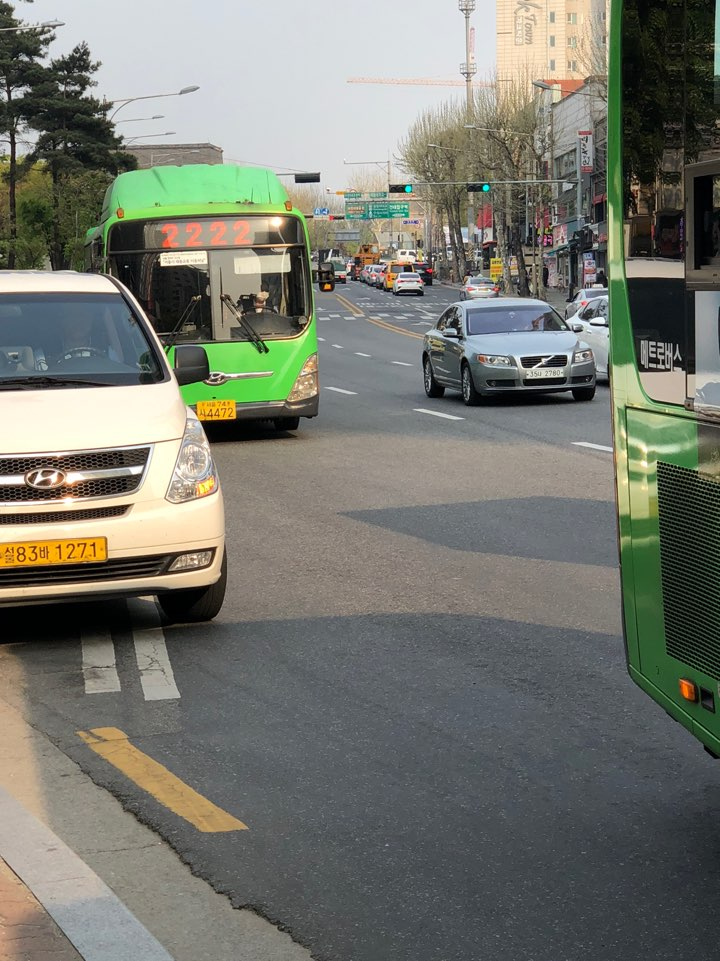bnum: (157, 219, 254, 247)
